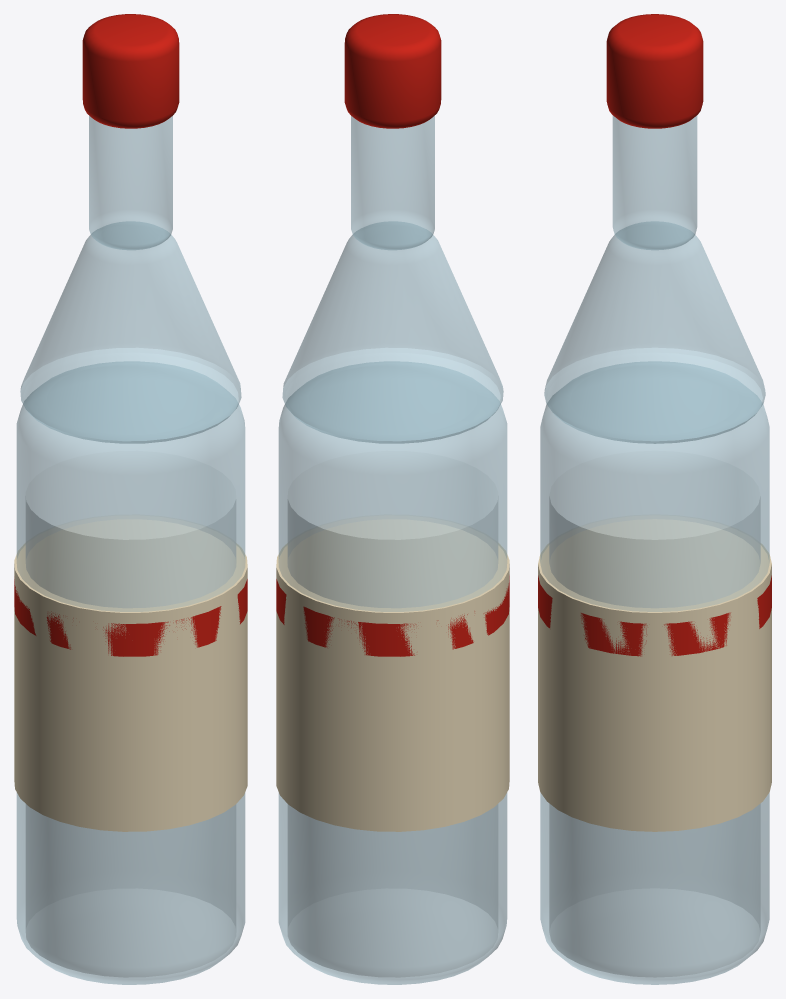
Rendered from vodka.glb.
The picture shows the model from 3 angles, left to right: view 1: azimuth 30°, elevation 25°; view 2: azimuth 150°, elevation 25°; view 3: azimuth 270°, elevation 25°; orthographic projection.
Parts seen in each view (by area): view 1: vodka; view 2: vodka; view 3: vodka.
Boxes of the visible parts, box(x1,y1,x2,y2) form: vodka: box(14, 14, 247, 984); vodka: box(276, 14, 509, 984); vodka: box(538, 14, 771, 984).
Size of the model in its own units: 0.0775 by 0.335 by 0.0775.
